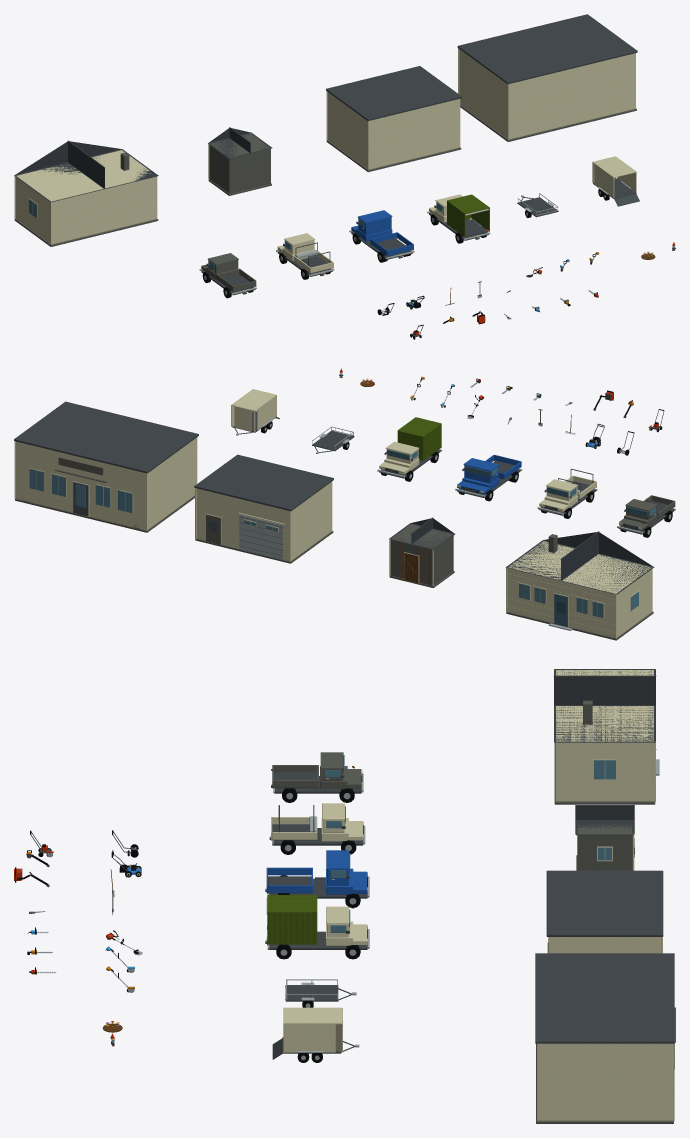
File: AllRevisedModels.gltf
3 renders of one model, top to bottom at view 1: azimuth 30°, elevation 25°; view 2: azimuth 150°, elevation 25°; view 3: azimuth 270°, elevation 25°, orthographic. The views are drawn at different scales.
Parts seen in each view (by area): view 1: SmallOffice__Body, House__Body, Garage__Body, Shed__Body, LandscapingTruck__Body, HeavyDutyPickup__Body, LandscapeTrailer__Body, WorkPickup__Body, RustyPickup__Body, UtilityTrailer__Body; view 2: SmallOffice__Body, House__Body, Garage__Body, Shed__Body, LandscapingTruck__Body, HeavyDutyPickup__Body, LandscapeTrailer__Body, WorkPickup__Body, RustyPickup__Body, UtilityTrailer__Body; view 3: SmallOffice__Body, House__Body, Garage__Body, LandscapingTruck__Body, Shed__Body, HeavyDutyPickup__Body, LandscapeTrailer__Body, WorkPickup__Body, RustyPickup__Body, UtilityTrailer__Body.
Boxes of the visible parts, box(x1,y1,x2,y2) form: SmallOffice__Body: box(457, 14, 637, 141); House__Body: box(14, 140, 158, 246); Garage__Body: box(326, 66, 461, 172); Shed__Body: box(208, 127, 272, 195); LandscapingTruck__Body: box(427, 194, 490, 240); HeavyDutyPickup__Body: box(349, 210, 414, 261); LandscapeTrailer__Body: box(592, 156, 639, 206); WorkPickup__Body: box(276, 233, 334, 276); RustyPickup__Body: box(199, 253, 256, 295); UtilityTrailer__Body: box(517, 193, 558, 217); SmallOffice__Body: box(14, 401, 198, 532); House__Body: box(505, 531, 654, 640); Garage__Body: box(194, 454, 333, 563); Shed__Body: box(389, 517, 455, 587); LandscapingTruck__Body: box(377, 417, 442, 478); HeavyDutyPickup__Body: box(455, 454, 522, 498); LandscapeTrailer__Body: box(231, 389, 279, 435); WorkPickup__Body: box(537, 468, 597, 515); RustyPickup__Body: box(617, 495, 675, 534); UtilityTrailer__Body: box(312, 426, 354, 453); SmallOffice__Body: box(535, 953, 675, 1123); House__Body: box(553, 669, 659, 804); Garage__Body: box(546, 870, 663, 953); LandscapingTruck__Body: box(265, 895, 369, 955); Shed__Body: box(575, 805, 634, 870); HeavyDutyPickup__Body: box(265, 850, 369, 904); LandscapeTrailer__Body: box(272, 1007, 359, 1062); WorkPickup__Body: box(269, 803, 365, 851); RustyPickup__Body: box(271, 752, 363, 799); UtilityTrailer__Body: box(285, 979, 356, 1007).
Size of the model in its own units: 45.32 by 5.27 by 32.27.
Materials: 15 (4 with a texture image).
